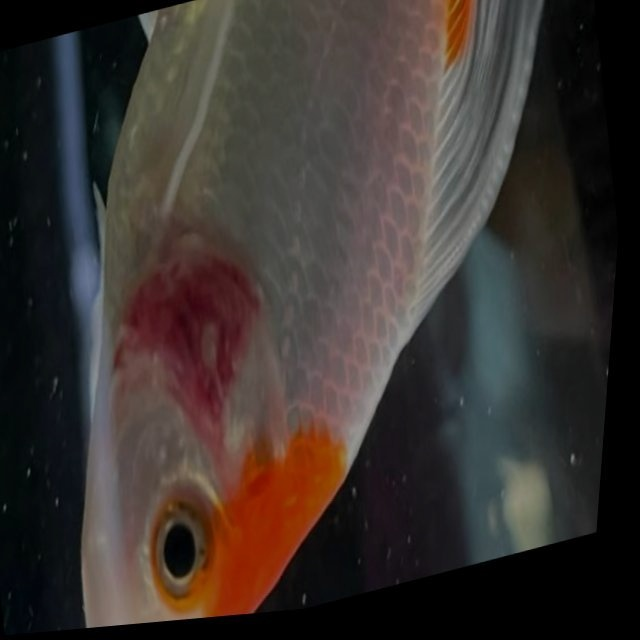Gill Disease: (86, 158, 330, 620)
